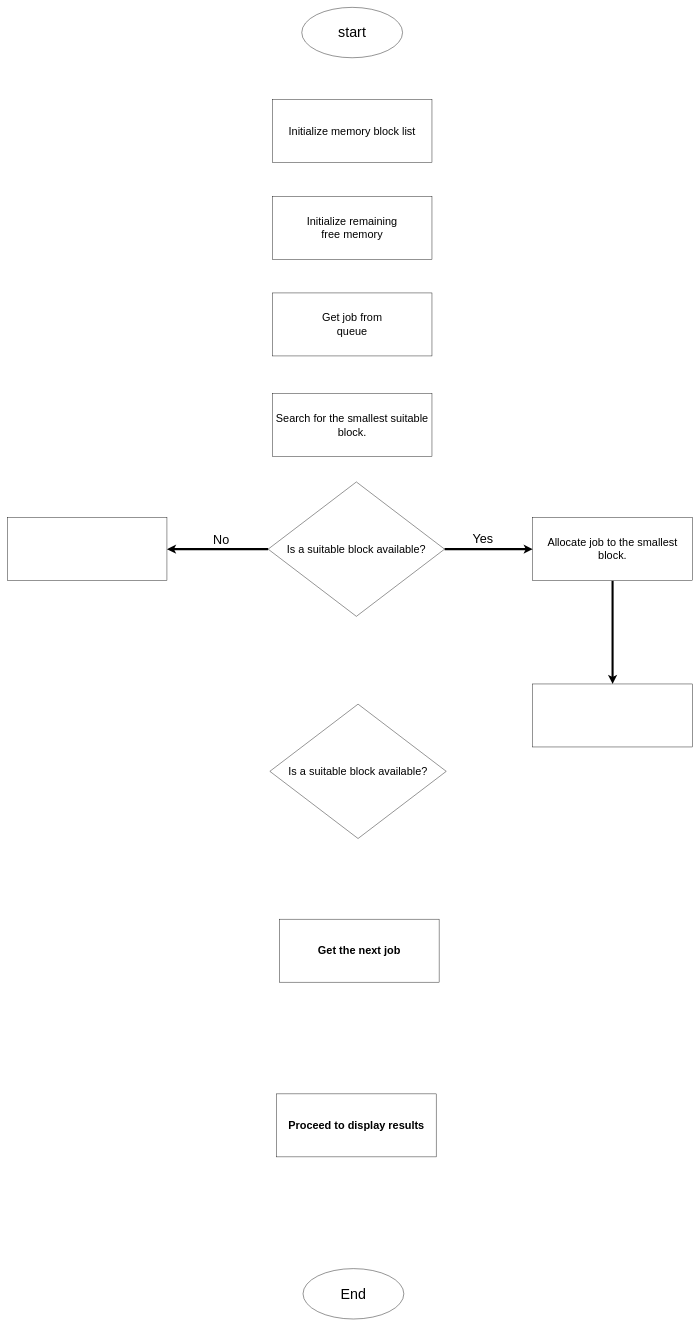
The diagram is 700 pixels wide and 1326 high, and some of its shapes have lost their labels. The box of each missing label's shape, as (x1, y1, x2, y2) in pixels:
Mark job as unallocatable .: (7, 517, 167, 581)
Update memory block size: (532, 684, 692, 747)
